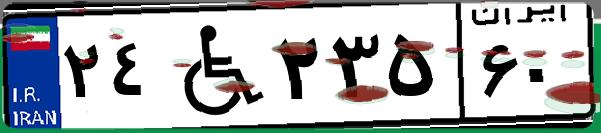0: (525, 38, 570, 115)
2: (270, 28, 330, 110), (57, 26, 110, 100)
3: (330, 28, 385, 110)
4: (110, 28, 158, 98)
5: (385, 28, 445, 110)
6: (475, 38, 525, 113)
ژ (معلولین و جانبازان): (158, 12, 270, 120)
